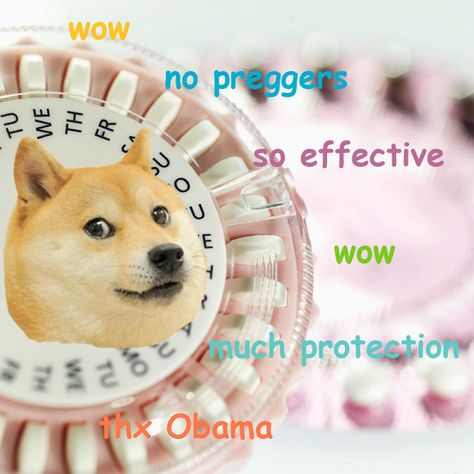doge: (1, 119, 220, 368)
